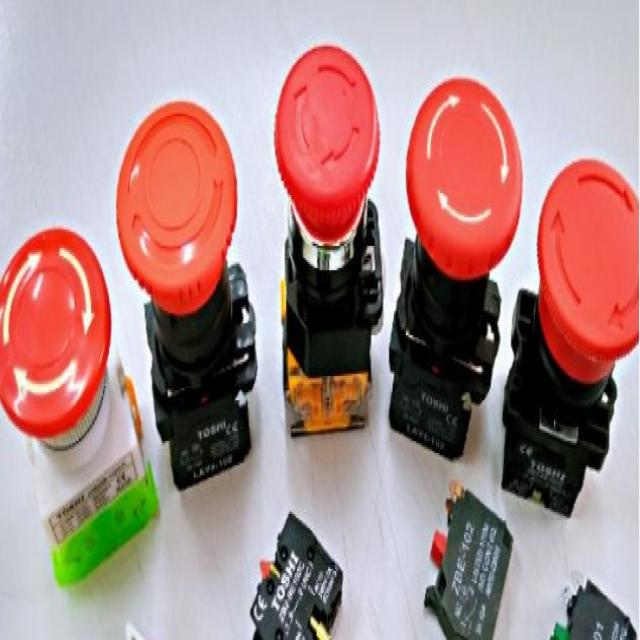safety switch: (116, 102, 238, 344), (406, 80, 524, 300), (0, 223, 113, 446), (535, 163, 639, 402), (271, 43, 379, 271)
